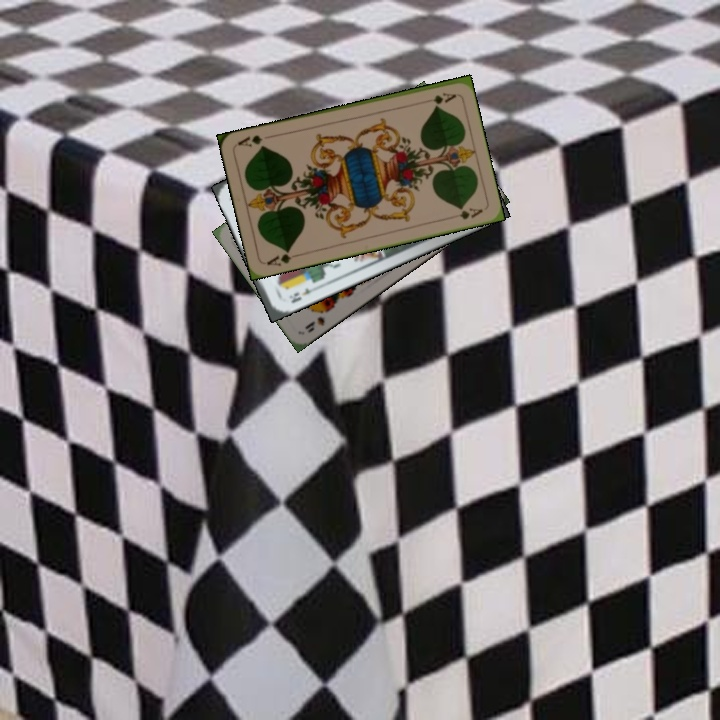EK: (285, 283, 318, 306)
GA: (263, 246, 303, 269), (418, 89, 458, 107)
S9: (301, 305, 334, 336)
